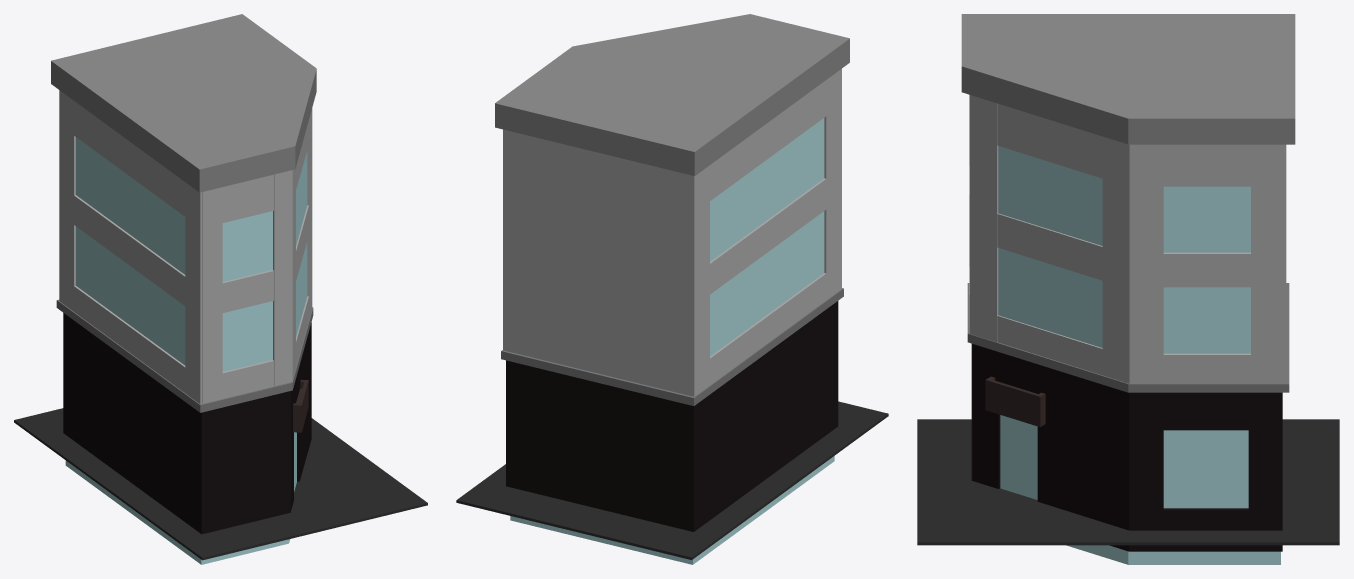
The model's file is SmallBuilding.fbx.
3 views of the same model, side by side, from view 1: azimuth 30°, elevation 25°; view 2: azimuth 150°, elevation 25°; view 3: azimuth 270°, elevation 25° (orthographic). The views are drawn at different scales.
Visible parts, largest first — view 1: Cube.021, Cube.001, Cube.010, Cube, Cube.018, Cube.008, Cube.015, Cube.016, Cube.019, Cube.003, Cube.012, Cube.002 (+3 smaller); view 2: Cube.017, Cube.021, Cube.009, Cube.010, Cube.018, Cube.001, Cube, Cube.019, Cube.003, Cube.002; view 3: Cube.021, Cube.001, Cube, Cube.014, Cube.012, Cube.006, Cube.002, Cube.004, Cube.013, Cube.011, Cube.005, Cube.003 (+3 smaller).
Boxes of the visible parts, box(x1,y1,x2,y2) form: Cube.021: box(51, 14, 316, 192); Cube.001: box(76, 137, 307, 371); Cube.010: box(63, 313, 203, 534); Cube: box(14, 408, 427, 560); Cube.018: box(59, 90, 185, 392); Cube.008: box(204, 391, 290, 533); Cube.015: box(202, 174, 273, 403); Cube.016: box(273, 170, 292, 386); Cube.019: box(185, 182, 202, 404); Cube.003: box(56, 299, 313, 412); Cube.012: box(296, 108, 312, 364); Cube.002: box(65, 432, 296, 564); Cube.017: box(503, 129, 692, 396); Cube.021: box(495, 14, 849, 176); Cube.009: box(506, 360, 692, 531); Cube.010: box(693, 301, 838, 531); Cube.018: box(692, 80, 826, 396); Cube.001: box(710, 118, 824, 356); Cube: box(456, 401, 888, 559); Cube.019: box(824, 69, 841, 299); Cube.003: box(501, 288, 843, 405); Cube.002: box(510, 456, 834, 564); Cube.021: box(961, 14, 1295, 144); Cube.001: box(998, 146, 1250, 353); Cube: box(917, 419, 1339, 545); Cube.014: box(1163, 144, 1284, 383); Cube.012: box(997, 103, 1129, 383); Cube.006: box(998, 352, 1129, 551); Cube.002: box(1000, 415, 1280, 564); Cube.004: box(1163, 392, 1282, 551); Cube.013: box(1130, 144, 1163, 383); Cube.011: box(970, 95, 998, 342); Cube.005: box(1130, 392, 1163, 551); Cube.003: box(967, 283, 1289, 392).
Bounding box in the file's own units: 1743 × 2971 × 2523.
